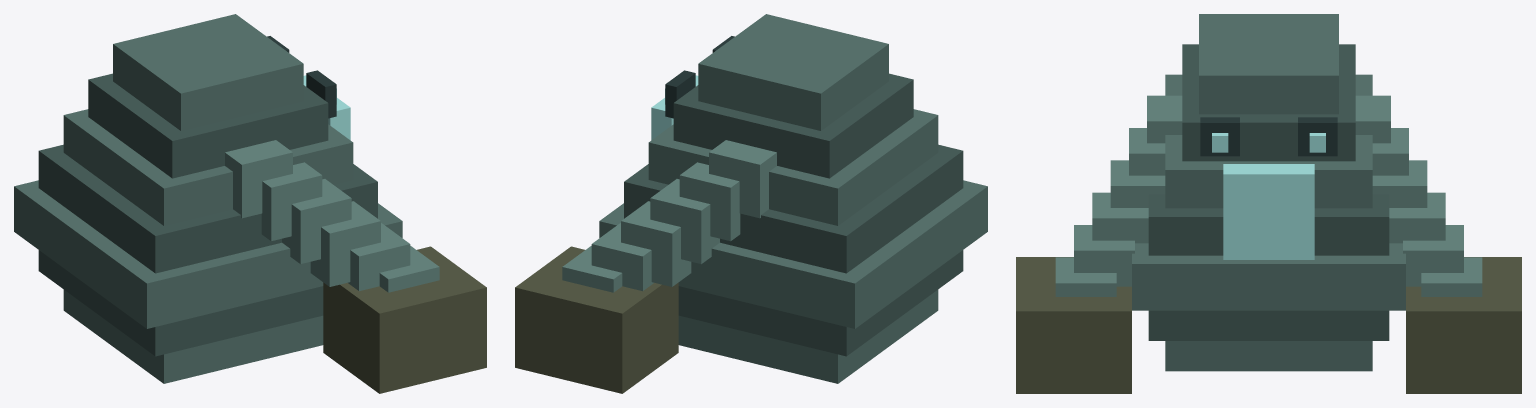
The model's file is bog-drifter.glb.
The picture shows the model from 3 angles, left to right: view 1: azimuth 30°, elevation 25°; view 2: azimuth 150°, elevation 25°; view 3: azimuth 270°, elevation 25°; orthographic projection. The views are drawn at different scales.
Parts seen in each view (by area): view 1: MudBody, MudFists, MudArms, EyeSockets, ExposedCore; view 2: MudBody, MudFists, MudArms, EyeSockets, ExposedCore; view 3: MudBody, MudFists, MudArms, ExposedCore, EyeSockets, MoonEyes.
Part boxes in pixels (<box>): MudBody: <box>14,14,402,383</box>; MudFists: <box>323,246,486,393</box>; MudArms: <box>225,140,439,292</box>; EyeSockets: <box>267,36,336,118</box>; ExposedCore: <box>303,75,350,140</box>; MudBody: <box>599,14,987,383</box>; MudFists: <box>515,246,678,393</box>; MudArms: <box>562,140,776,292</box>; EyeSockets: <box>665,36,734,118</box>; ExposedCore: <box>651,75,698,140</box>; MudBody: <box>1132,14,1405,371</box>; MudFists: <box>1016,257,1521,393</box>; MudArms: <box>1055,95,1482,296</box>; ExposedCore: <box>1223,164,1314,259</box>; EyeSockets: <box>1200,117,1337,156</box>; MoonEyes: <box>1212,133,1325,152</box>.
Bounding box in the file's own units: 5.55 × 5.05 × 8.3.
